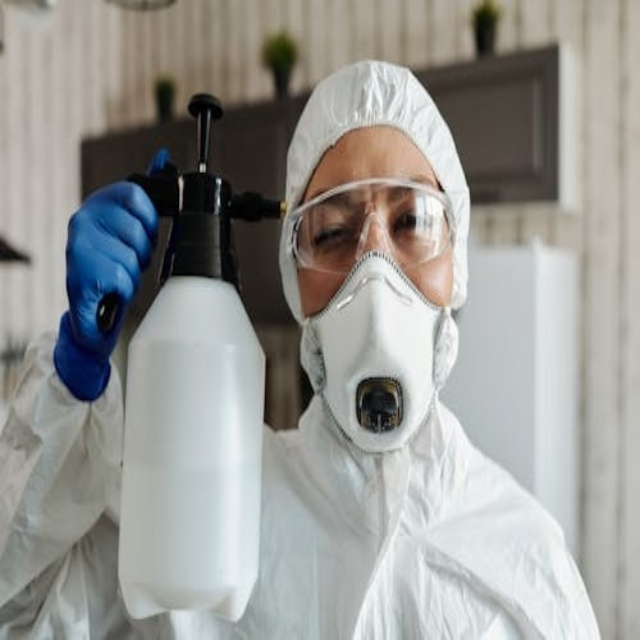Gafas: (287, 181, 455, 277)
Guantes: (54, 154, 165, 402)
Mascara: (302, 250, 449, 457)
